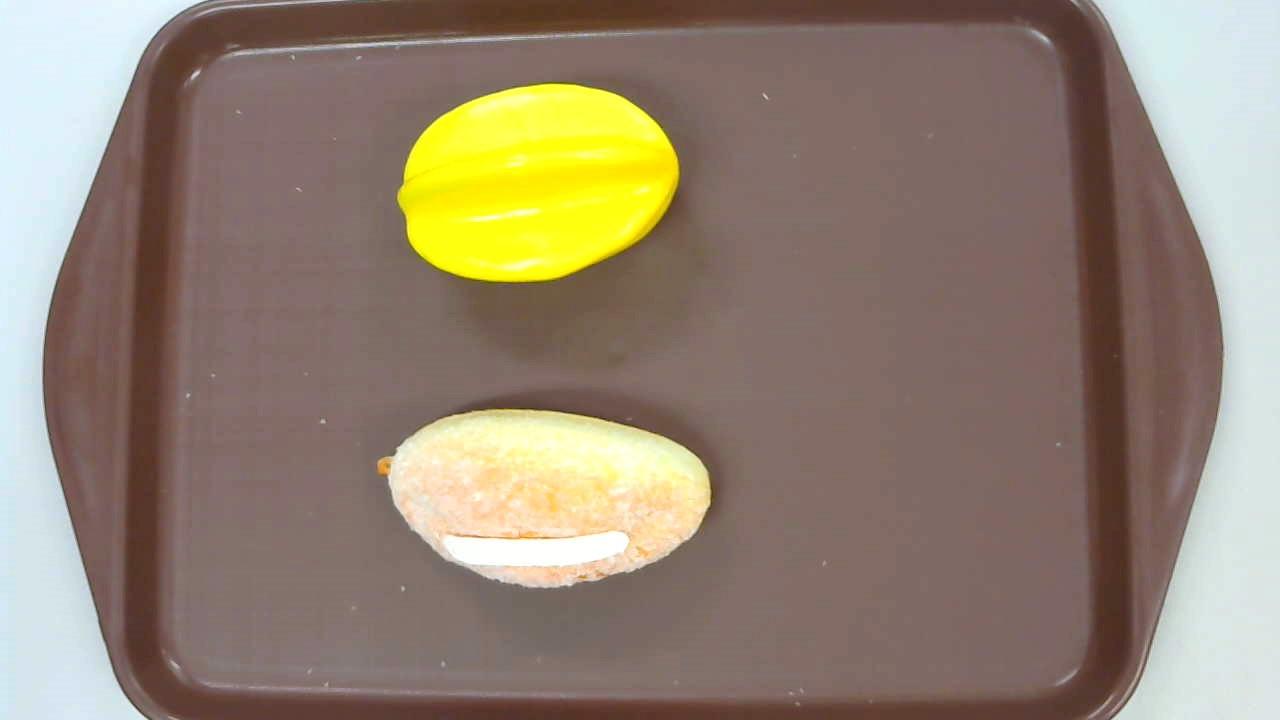coconut: (375, 406, 713, 590)
star fruit: (397, 83, 680, 283)
